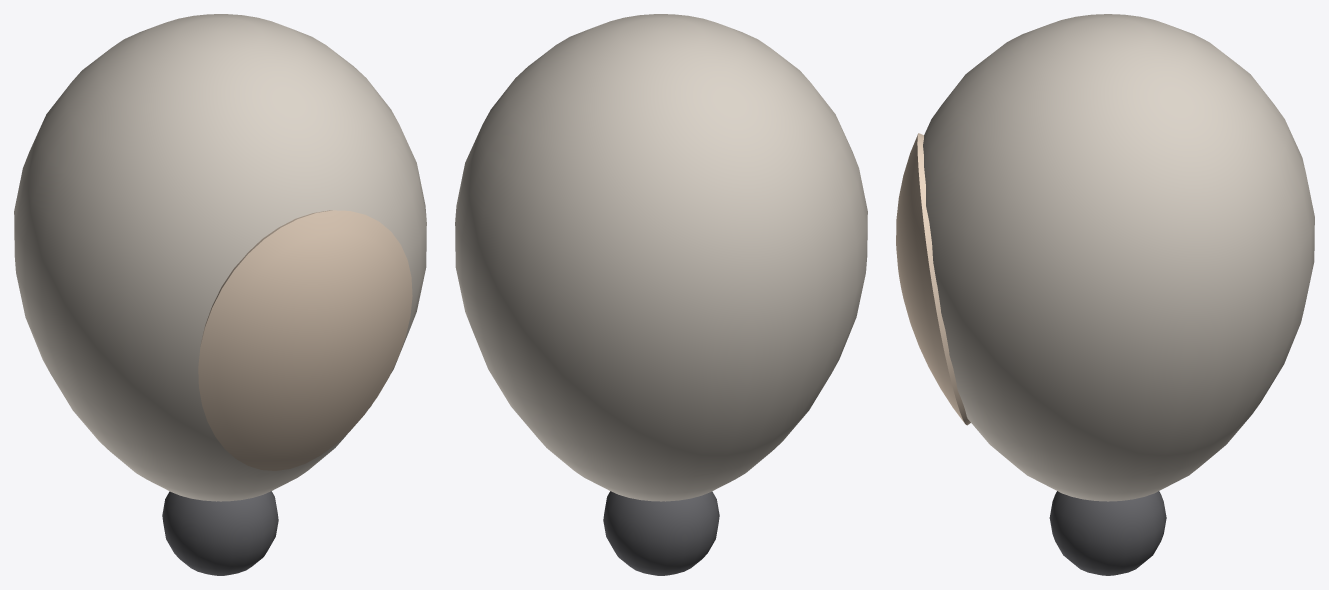
Rendered from Head.glb.
3 views of the same model, side by side, from view 1: azimuth 30°, elevation 25°; view 2: azimuth 150°, elevation 25°; view 3: azimuth 270°, elevation 25° (orthographic).
Parts seen in each view (by area): view 1: Head, FacePlate; view 2: Head; view 3: Head, FacePlate.
Part boxes in pixels (x1,y1,x2,y2): Head: [14, 14, 426, 575]; FacePlate: [198, 210, 412, 470]; Head: [455, 14, 867, 575]; Head: [923, 14, 1314, 575]; FacePlate: [896, 133, 970, 425].
Bounding box in the file's own units: 0.4242 × 0.61 × 0.4297.
